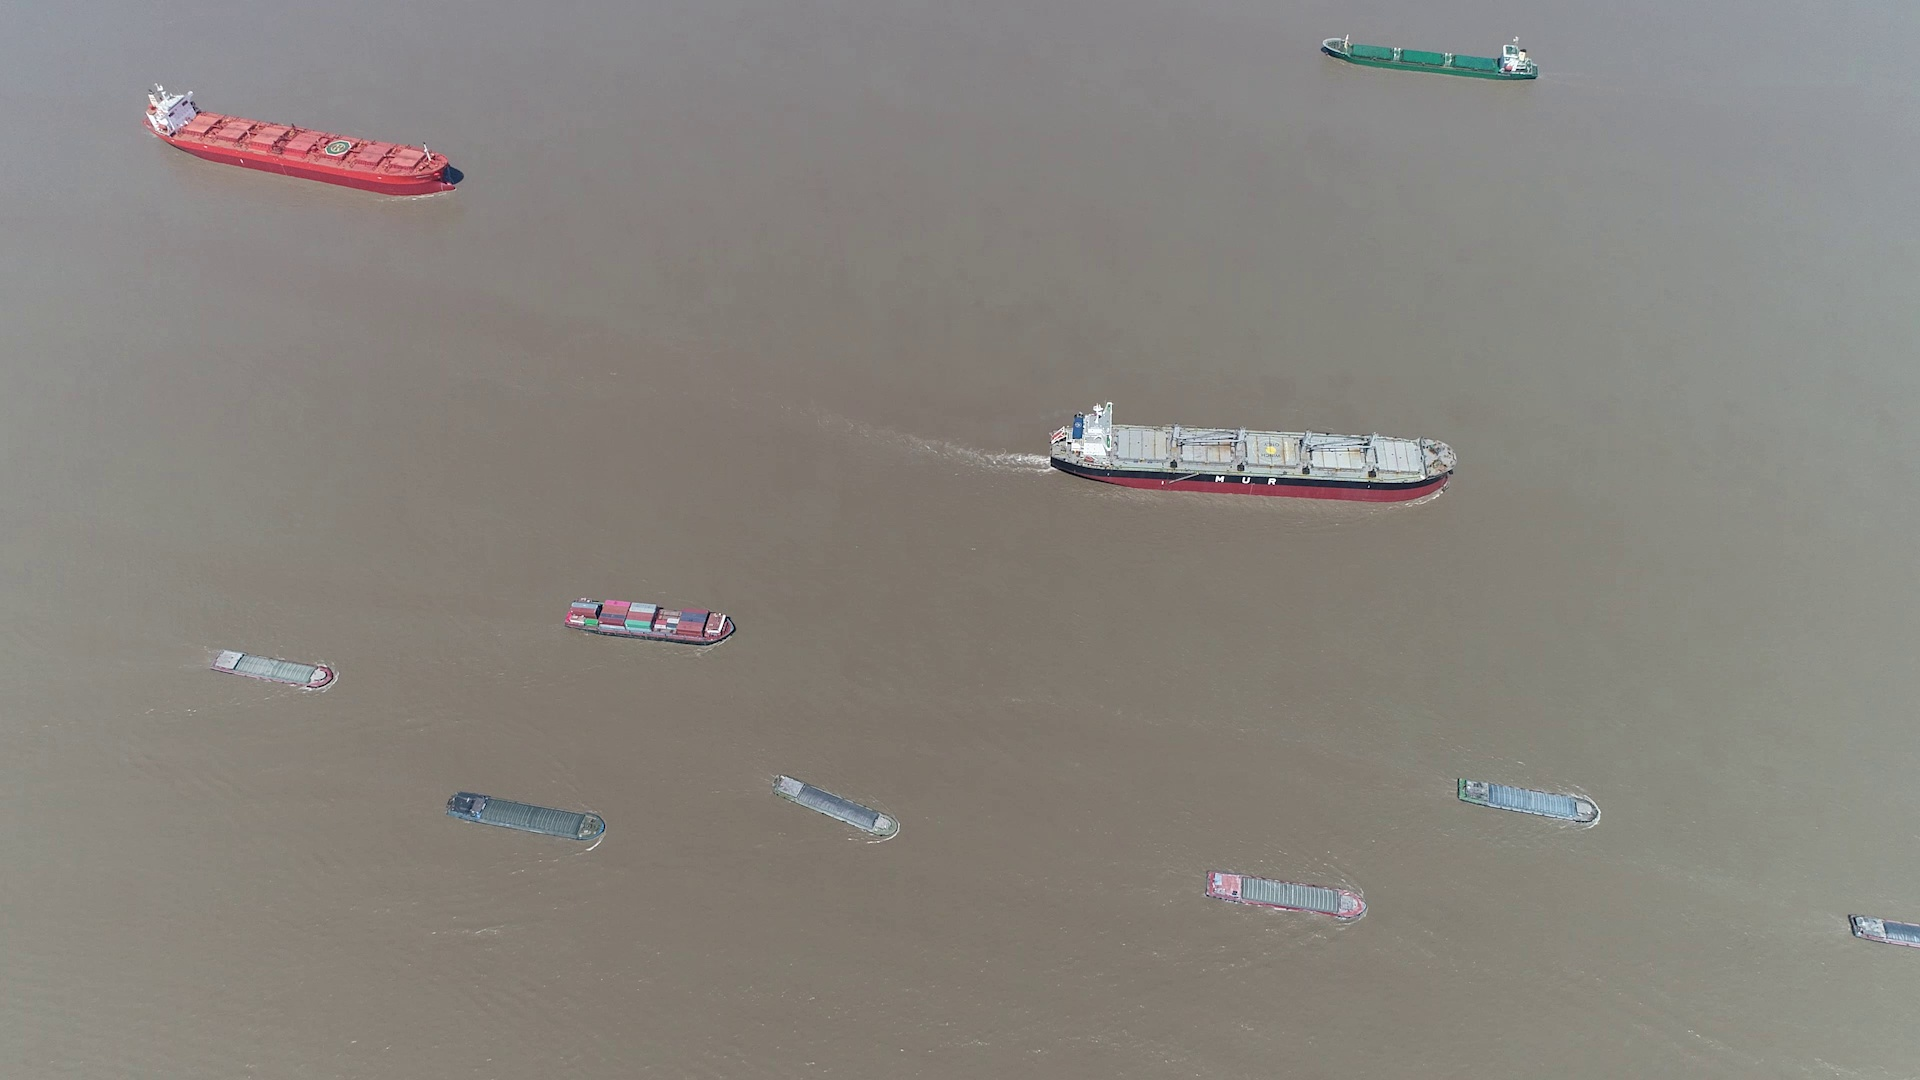ship: (1048, 410, 1449, 501), (145, 84, 459, 195), (1320, 32, 1540, 82), (563, 597, 736, 646), (448, 791, 607, 843), (1207, 872, 1367, 919), (779, 775, 899, 839), (1453, 778, 1601, 825), (210, 647, 338, 688), (1845, 915, 1919, 952)
